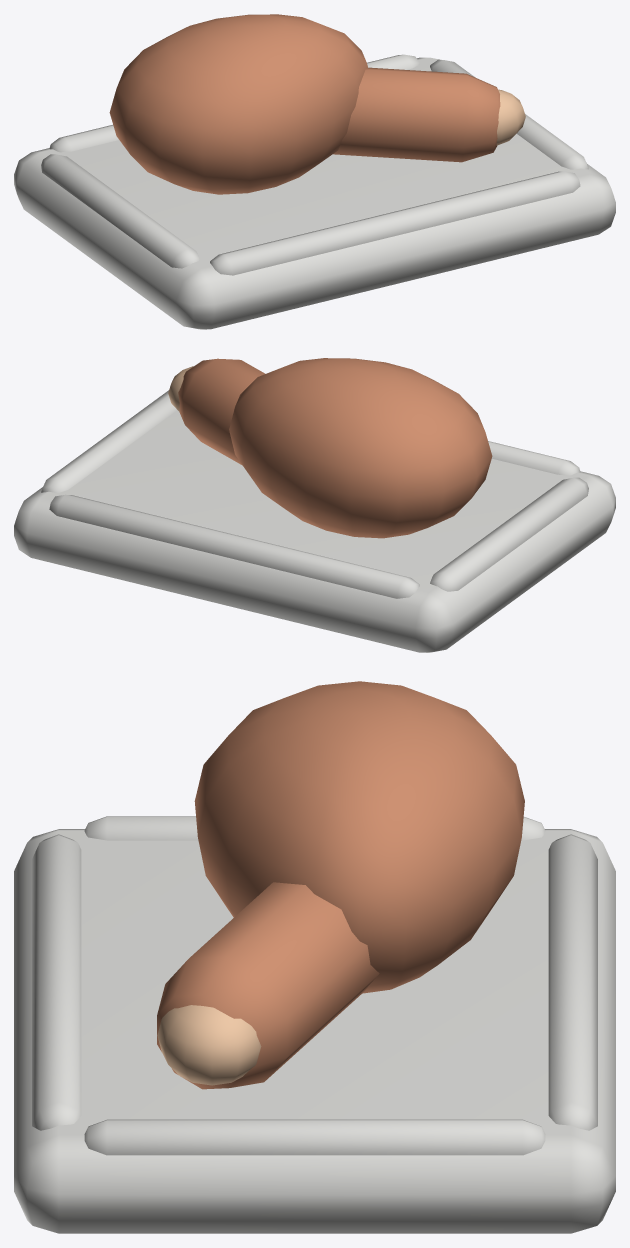
File: duck.glb
The picture shows the model from 3 angles, top to bottom: view 1: azimuth 30°, elevation 25°; view 2: azimuth 150°, elevation 25°; view 3: azimuth 270°, elevation 25°; orthographic projection. The views are drawn at different scales.
Visible parts, largest first — view 1: duck; view 2: duck; view 3: duck.
Part boxes in pixels (box(x1,y1,x2,y2)): duck: box(14, 14, 615, 329); duck: box(14, 358, 615, 652); duck: box(14, 681, 615, 1233).
Bounding box in the file's own units: 0.74 × 0.326 × 0.55.
